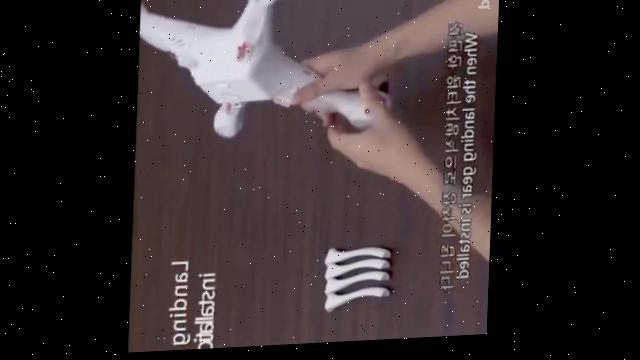drone: (135, 0, 377, 149)
